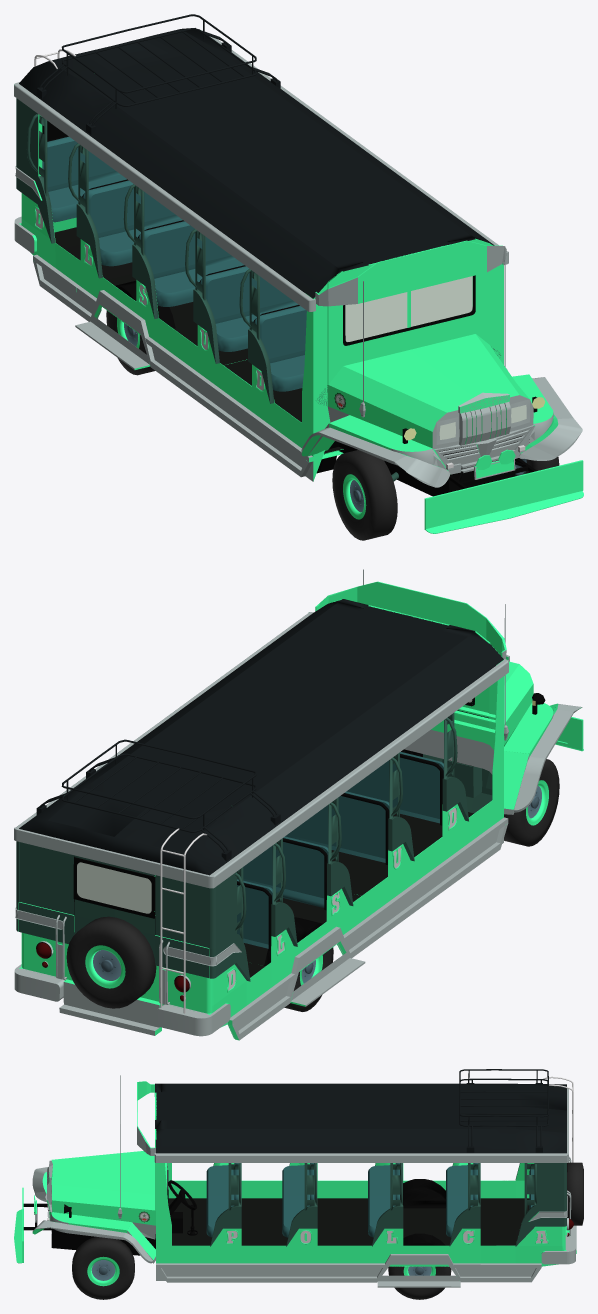
File: Ikot La Salle MODEL.fbx
3 views of the same model, one above another, from view 1: azimuth 30°, elevation 25°; view 2: azimuth 150°, elevation 25°; view 3: azimuth 270°, elevation 25° (orthographic). The views are drawn at different scales.
Parts seen in each view (by area): view 1: Ikot La Salle, FrontRightWheels, HandleBar.003, HandleBar.001, HandleBar, HandleBar.004, RearRightWheels, HandleBar.002; view 2: Ikot La Salle, Spare Wheels, FrontRightWheels, Ladder, Interior, RearRightWheels, HandleBar, HandleBar.001, HandleBar.003, HandleBar.004; view 3: Ikot La Salle, FrontLeftWheels, RearLeftWheels, Spare Wheels, Interior, HandleBar.003, HandleBar.004, Text.002, HandleBar.002, HandleBar, HandleBar.001, Text.003 (+1 smaller).
Boxes of the visible parts, x1=… form: Ikot La Salle: x1=14, y1=14, x2=583, y2=533; FrontRightWheels: x1=332, y1=450, x2=397, y2=540; HandleBar.003: x1=185, y1=229, x2=205, y2=300; HandleBar.001: x1=68, y1=143, x2=88, y2=214; HandleBar: x1=123, y1=184, x2=144, y2=255; HandleBar.004: x1=239, y1=269, x2=259, y2=340; RearRightWheels: x1=106, y1=310, x2=155, y2=375; HandleBar.002: x1=26, y1=114, x2=47, y2=196; Ikot La Salle: x1=14, y1=569, x2=583, y2=1040; Spare Wheels: x1=66, y1=916, x2=156, y2=1008; FrontRightWheels: x1=504, y1=759, x2=559, y2=846; Ladder: x1=160, y1=828, x2=207, y2=1013; Interior: x1=401, y1=749, x2=482, y2=797; RearRightWheels: x1=284, y1=947, x2=333, y2=1011; HandleBar: x1=328, y1=797, x2=341, y2=863; HandleBar.001: x1=272, y1=838, x2=285, y2=904; HandleBar.003: x1=389, y1=752, x2=402, y2=818; HandleBar.004: x1=444, y1=713, x2=457, y2=779; Ikot La Salle: x1=14, y1=1069, x2=576, y2=1287; FrontLeftWheels: x1=72, y1=1237, x2=134, y2=1299; RearLeftWheels: x1=388, y1=1266, x2=451, y2=1299; Spare Wheels: x1=567, y1=1162, x2=583, y2=1225; Interior: x1=155, y1=1170, x2=197, y2=1241; HandleBar.003: x1=304, y1=1163, x2=317, y2=1210; HandleBar.004: x1=228, y1=1163, x2=241, y2=1210; Text.002: x1=227, y1=1230, x2=547, y2=1243; HandleBar.002: x1=524, y1=1163, x2=536, y2=1216; HandleBar: x1=390, y1=1163, x2=402, y2=1210; HandleBar.001: x1=468, y1=1163, x2=480, y2=1210; Text.003: x1=226, y1=1230, x2=548, y2=1244.
Size of the model in its own units: 960 by 1001 by 2928.
Materials: 22 (1 with a texture image).
